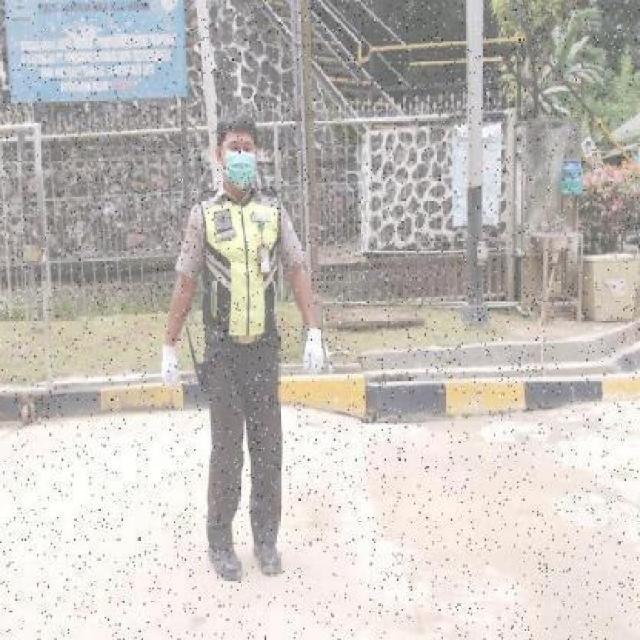Boots: (204, 537, 244, 585), (250, 534, 284, 578)
Gloves: (301, 326, 327, 376), (160, 341, 182, 394)
Mask: (224, 152, 256, 188)
